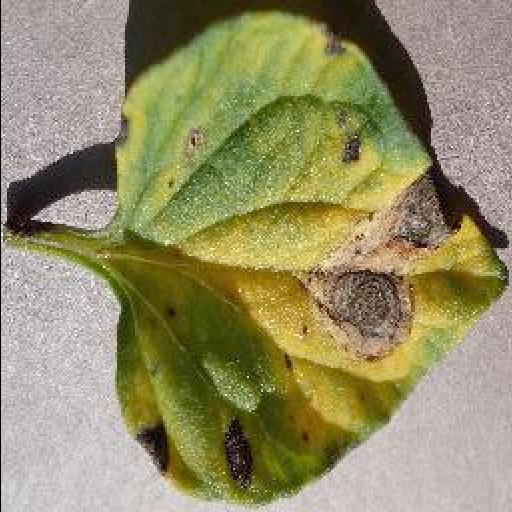Early Blight: (110, 8, 510, 504)
